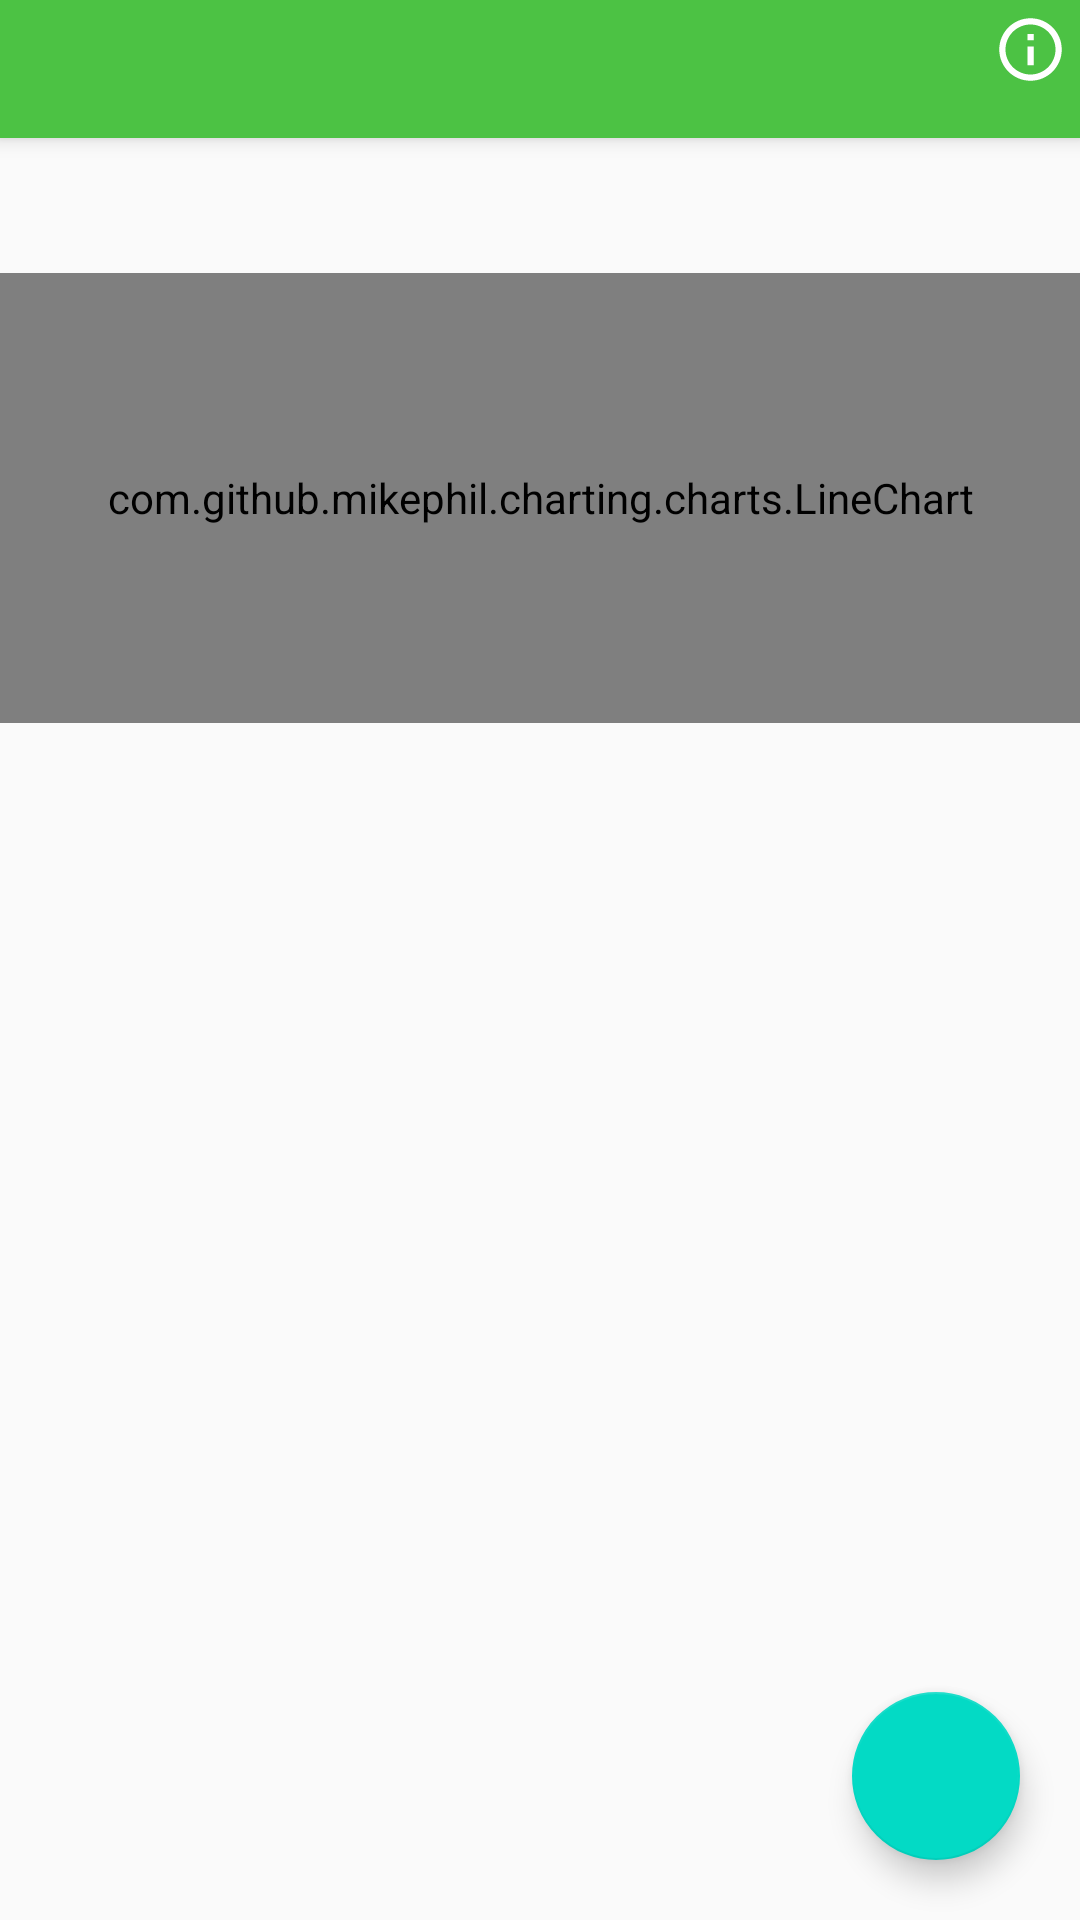

Icons on this 1080px×1920px Android screen, each with its box as BBox(x1, y1, x2, y2):
info: BBox(999, 18, 1062, 81)
